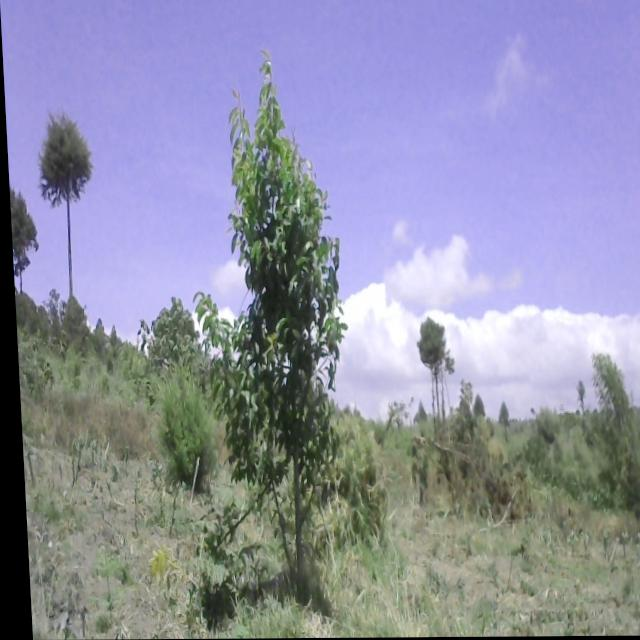Lemon Myrtle: (189, 45, 371, 588)
cedrus: (36, 80, 101, 347), (154, 360, 207, 493), (406, 307, 456, 439), (7, 169, 42, 321)
